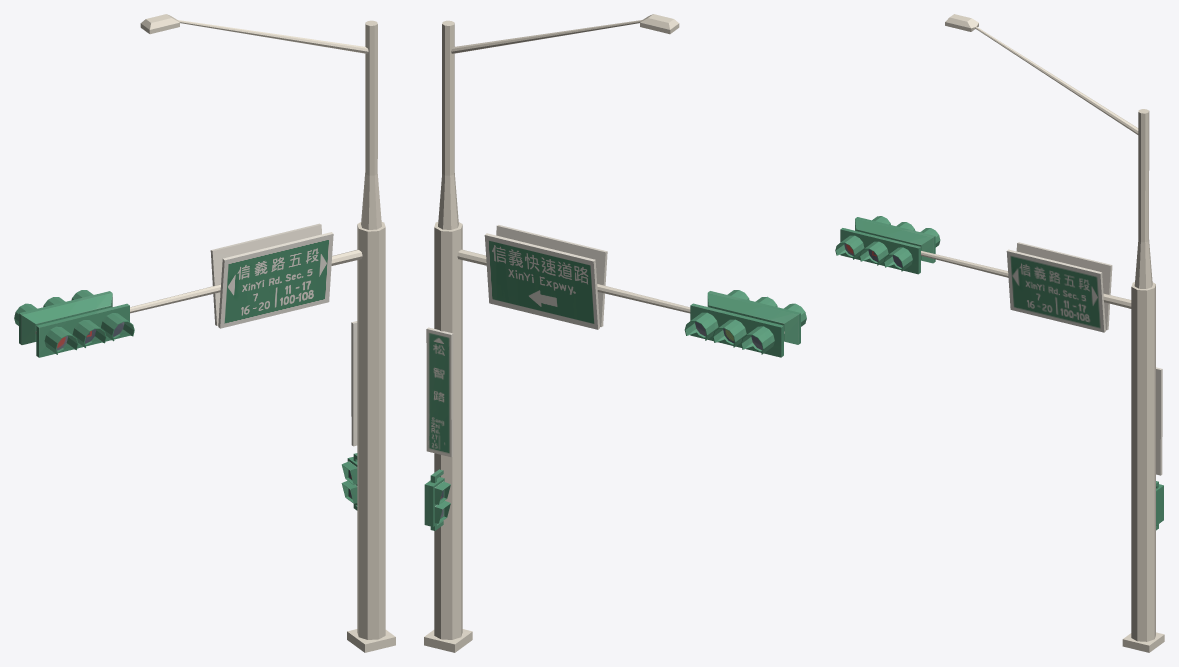
The model's file is Feux.glb.
3 renders of one model, left to right at view 1: azimuth 30°, elevation 25°; view 2: azimuth 150°, elevation 25°; view 3: azimuth 330°, elevation 25°, orthographic. The views are drawn at different scales.
Parts seen in each view (by area): view 1: Feux.001; view 2: Feux.001; view 3: Feux.001.
Part boxes in pixels (x1,y1,x2,y2): Feux.001: [14, 14, 395, 652]; Feux.001: [424, 14, 806, 652]; Feux.001: [835, 14, 1164, 652].
Bounding box in the file's own units: 3.89 × 7.02 × 0.8028.
Materials: 1 (1 with a texture image).
